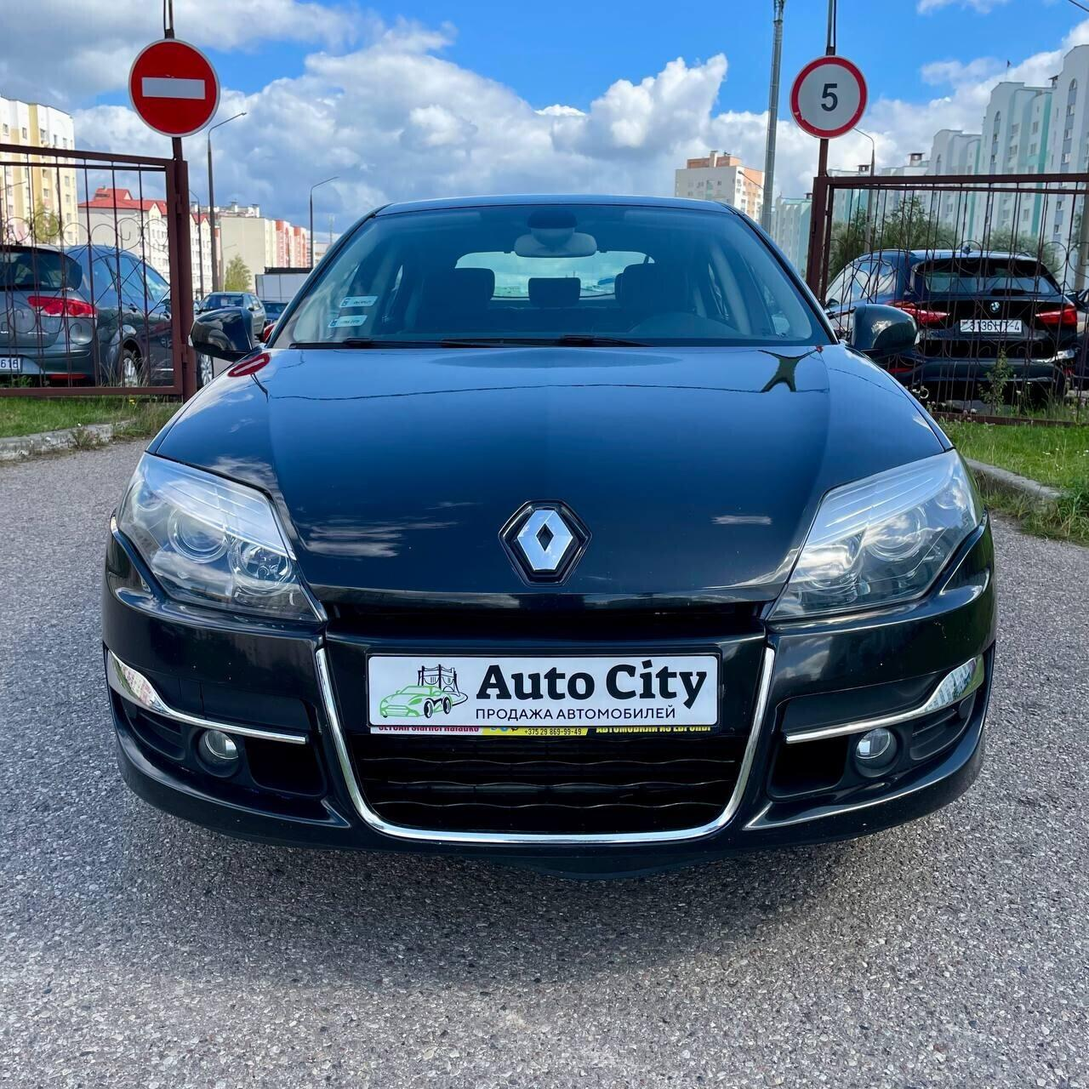Laguna_2010-2015: (106, 186, 1008, 881)
